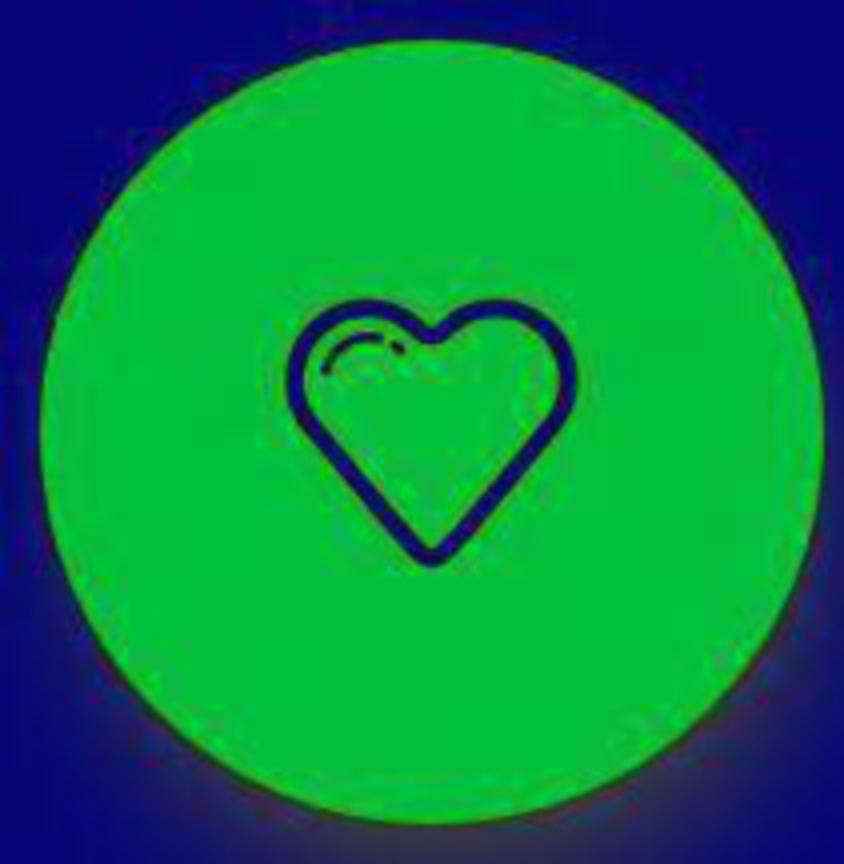ImgButton: (1, 1, 843, 863)
